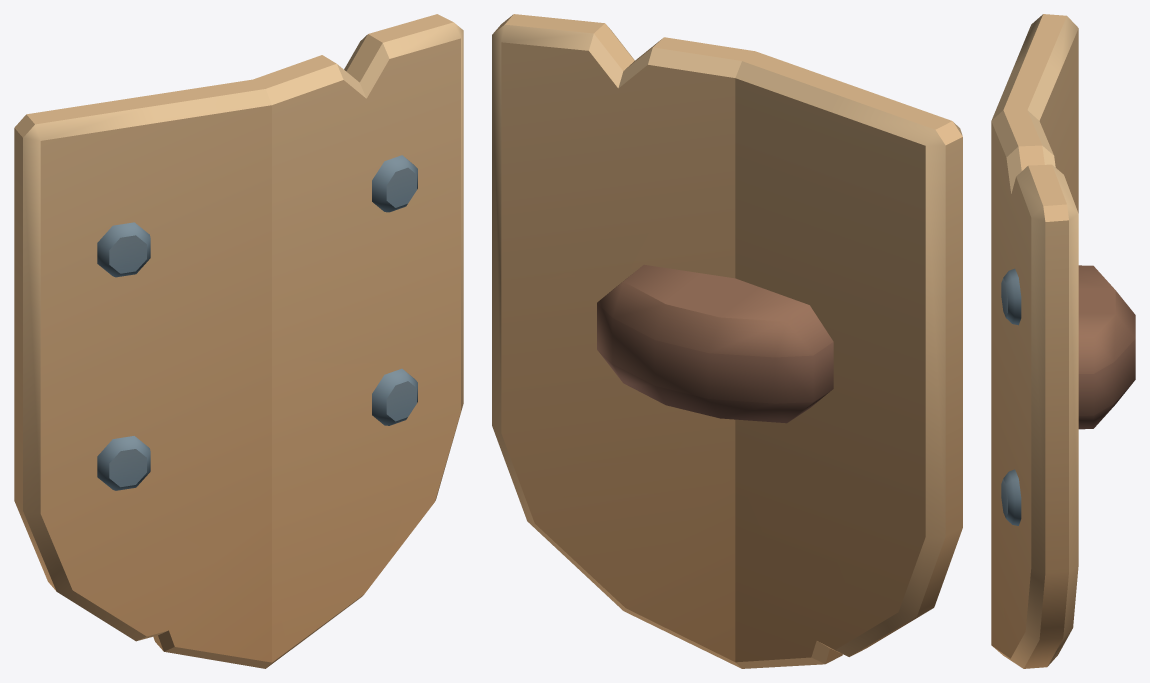
The model's file is shield_A.fbx.
3 renders of one model, left to right at view 1: azimuth 30°, elevation 25°; view 2: azimuth 150°, elevation 25°; view 3: azimuth 270°, elevation 25°, orthographic. The views are drawn at different scales.
Visible parts, largest first — view 1: shield_A; view 2: shield_A; view 3: shield_A.
Part boxes in pixels (<box>): shield_A: <box>14,14,463,668</box>; shield_A: <box>492,14,962,668</box>; shield_A: <box>991,14,1135,668</box>.
Size of the model in its own units: 0.7726 by 0.9799 by 0.233.
